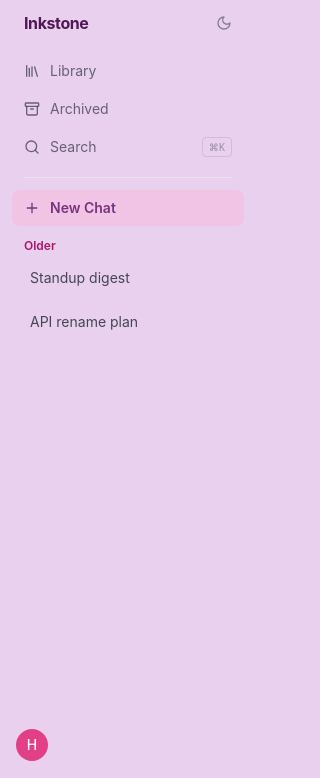
Test: Sidebar › inline rename commits on Enter and cancels on Escape
# Double-click the title → an input seeded with the current title appears.
Double-click the button "Standup digest" at x=84, y=278, box x1=12 y1=258 x2=156 y2=298
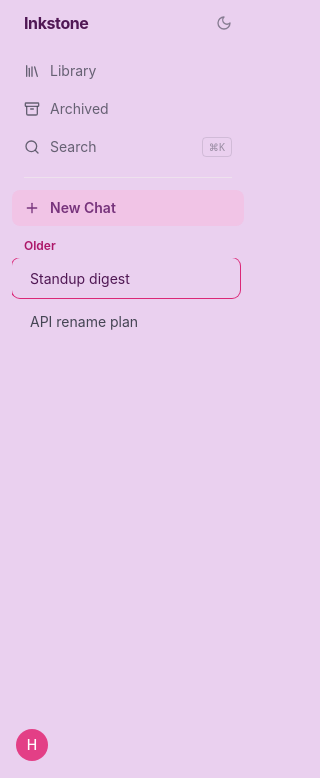
Expected: the field named "rename thread" holds "Standup digest"
Replace the text in the field named "rename thread" with "Daily standup" at x=126, y=278, box x1=12 y1=258 x2=240 y2=298
Then press Enter
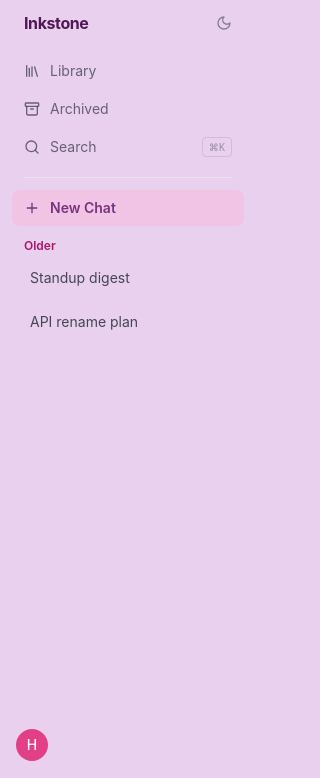
# Re-open then Escape → input gone, title unchanged, NO further rename call.
Double-click the button "API rename plan" at x=84, y=322, box x1=12 y1=302 x2=156 y2=342
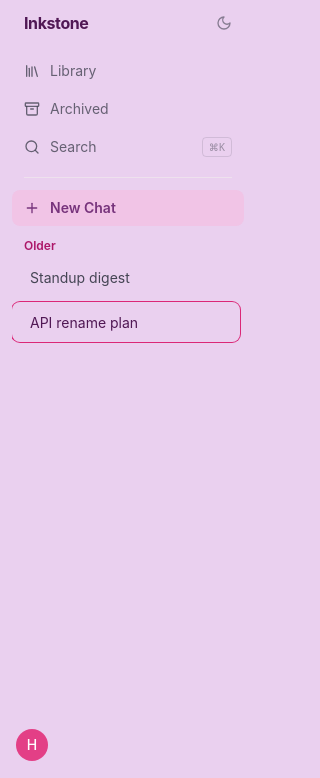
Replace the text in the field named "rename thread" with "scrapped" at x=126, y=322, box x1=12 y1=302 x2=240 y2=342
Then press Escape
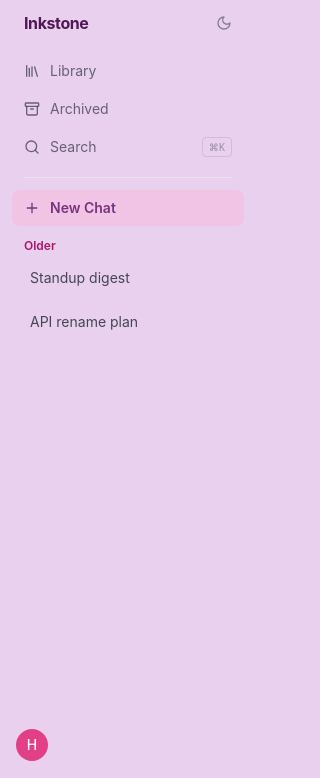
Expected: the button "API rename plan" is shown, x1=12 y1=302 x2=156 y2=342
